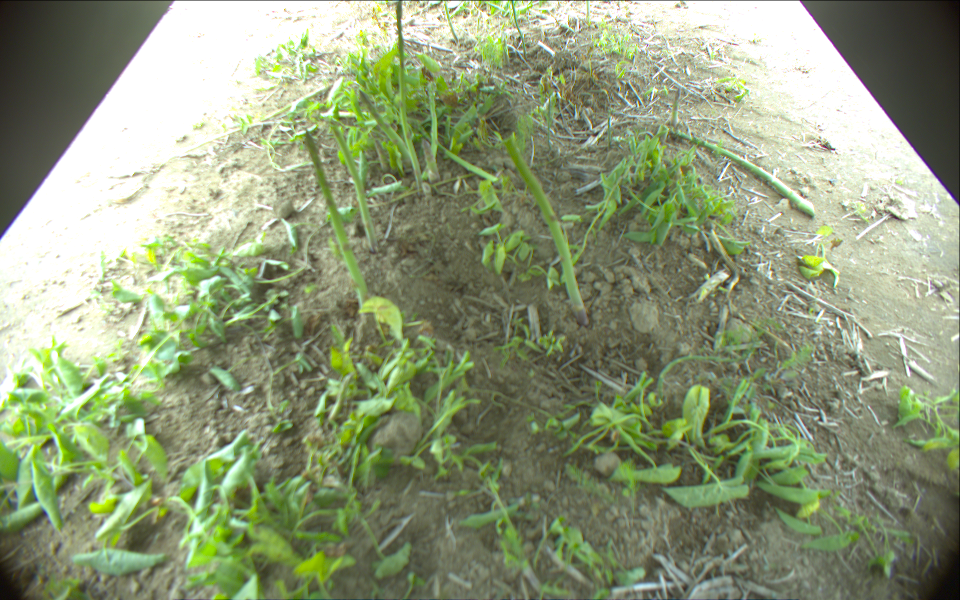aspa: (502, 133, 589, 324), (666, 124, 816, 217), (302, 129, 371, 315), (327, 118, 380, 250), (412, 110, 496, 185), (394, 1, 423, 181), (421, 75, 439, 180), (507, 1, 529, 61), (420, 139, 441, 185), (442, 1, 458, 41), (670, 85, 682, 130), (584, 1, 592, 24)
